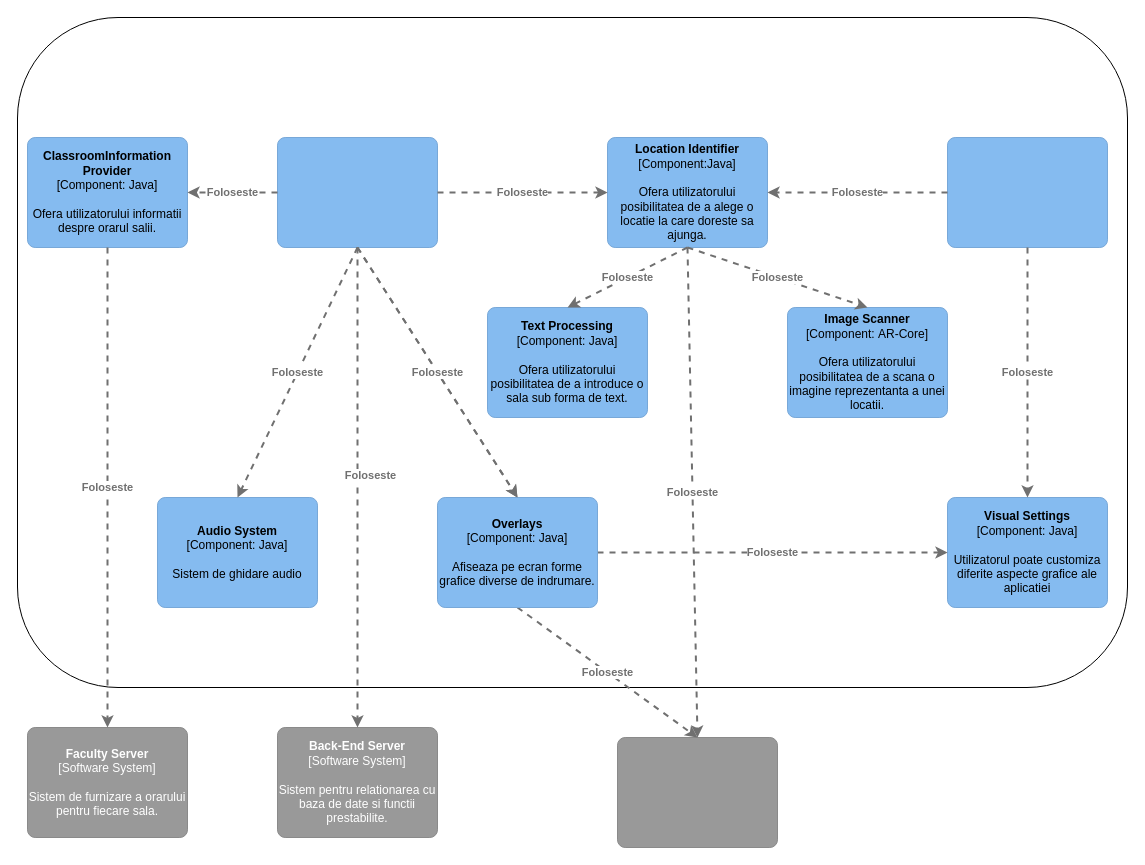
The diagram is 1145 pixels wide and 865 high, and some of its shapes have lost their labels. The centre of each missing label's shape, as x and y in pixels:
Menu [Component: Java ] Meniul aplicatiei: (1027,192)
Navigation-System [Component: Java ] Sistem de indrumare a utilizatorului.: (357,192)
Phone API [Software System] Sistem de functionalitati ale senzorilor telefonului: (697,792)
